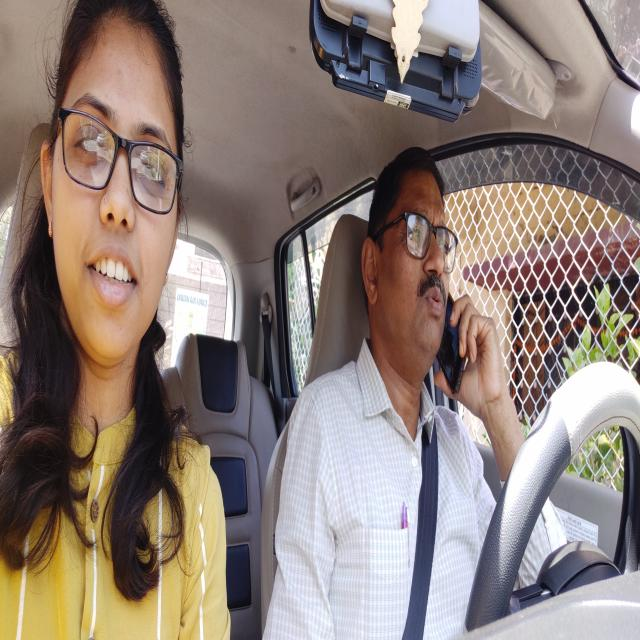mobile: (437, 294, 472, 414)
person: (40, 0, 185, 371), (359, 139, 454, 379)
